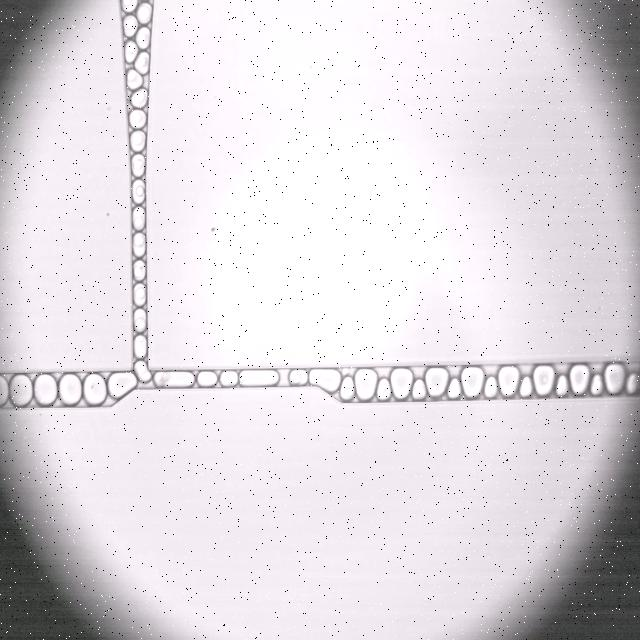L: (134, 361, 151, 382), (340, 376, 354, 401), (130, 88, 147, 108), (127, 69, 143, 90), (123, 15, 138, 37), (134, 52, 149, 74), (131, 154, 145, 177), (377, 378, 391, 401), (136, 27, 150, 49), (130, 109, 146, 128), (137, 3, 152, 23), (130, 131, 145, 151), (133, 309, 146, 332), (412, 379, 426, 400), (132, 179, 144, 203), (198, 371, 216, 387), (220, 371, 238, 387), (125, 41, 138, 63), (484, 376, 497, 398), (133, 207, 145, 230), (133, 233, 145, 256), (134, 336, 147, 357), (519, 376, 532, 397), (590, 374, 603, 395), (626, 373, 639, 394), (448, 378, 461, 398), (133, 284, 145, 305), (289, 370, 307, 384), (556, 375, 568, 396), (133, 260, 145, 280), (122, 0, 138, 12)
S: (309, 369, 341, 393), (108, 372, 137, 398), (83, 373, 107, 404), (9, 374, 32, 406), (354, 369, 377, 400), (390, 368, 413, 399), (461, 367, 484, 397), (34, 374, 56, 405), (60, 374, 82, 405), (425, 367, 448, 396), (154, 371, 194, 387), (498, 366, 519, 396), (604, 363, 625, 393), (239, 370, 278, 386), (533, 366, 554, 395), (570, 365, 589, 395), (0, 375, 8, 407)
